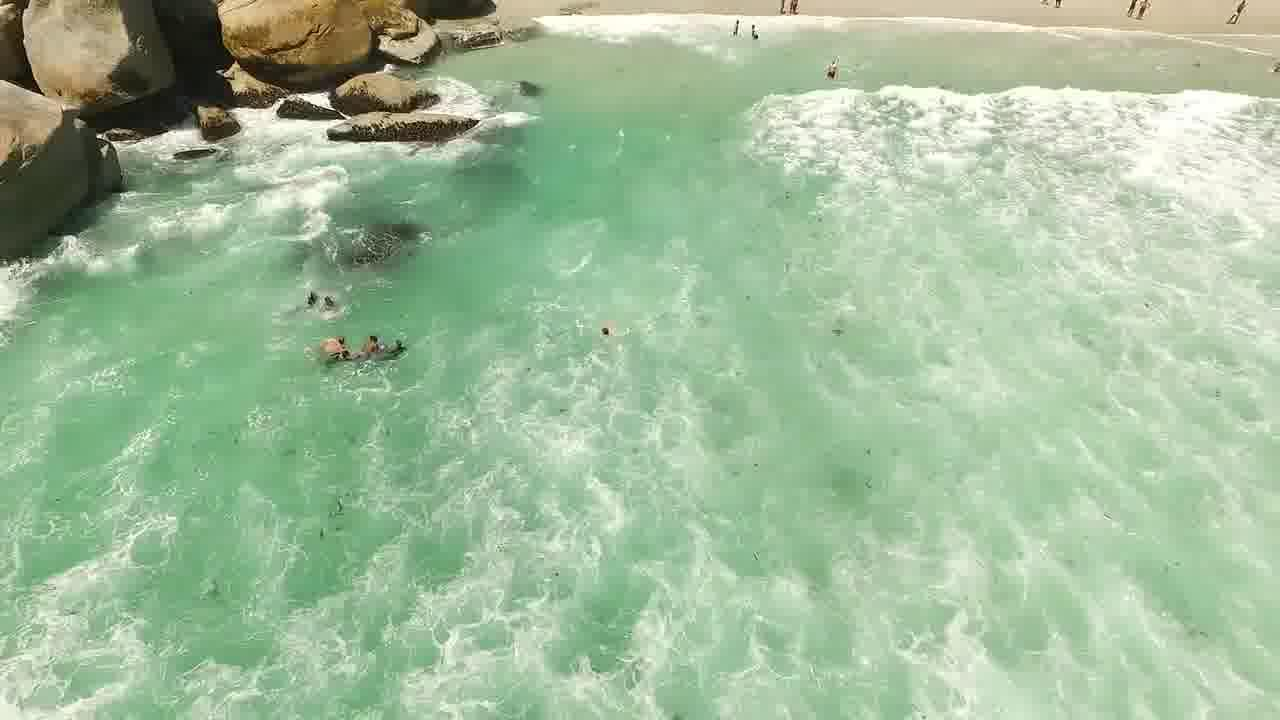human: (578, 307, 628, 347), (295, 280, 341, 308), (812, 48, 844, 88), (317, 331, 355, 363), (388, 327, 418, 364), (718, 9, 744, 42), (743, 12, 765, 43), (364, 323, 377, 357)
